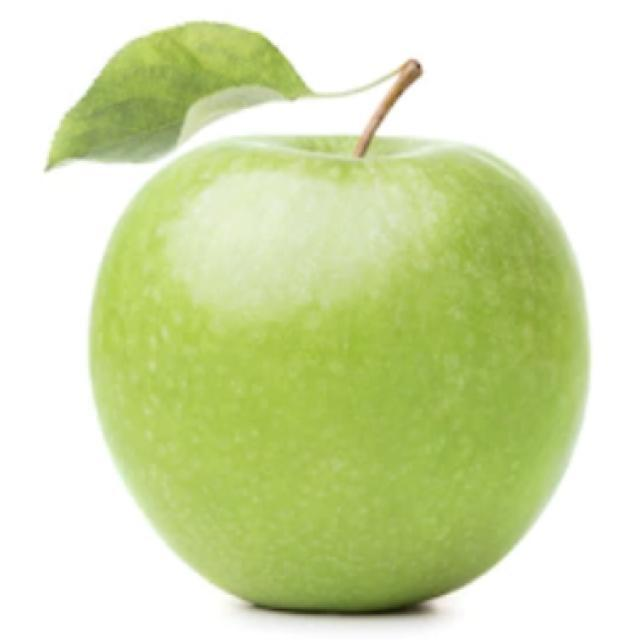Fresh Apple: (105, 138, 565, 632)
